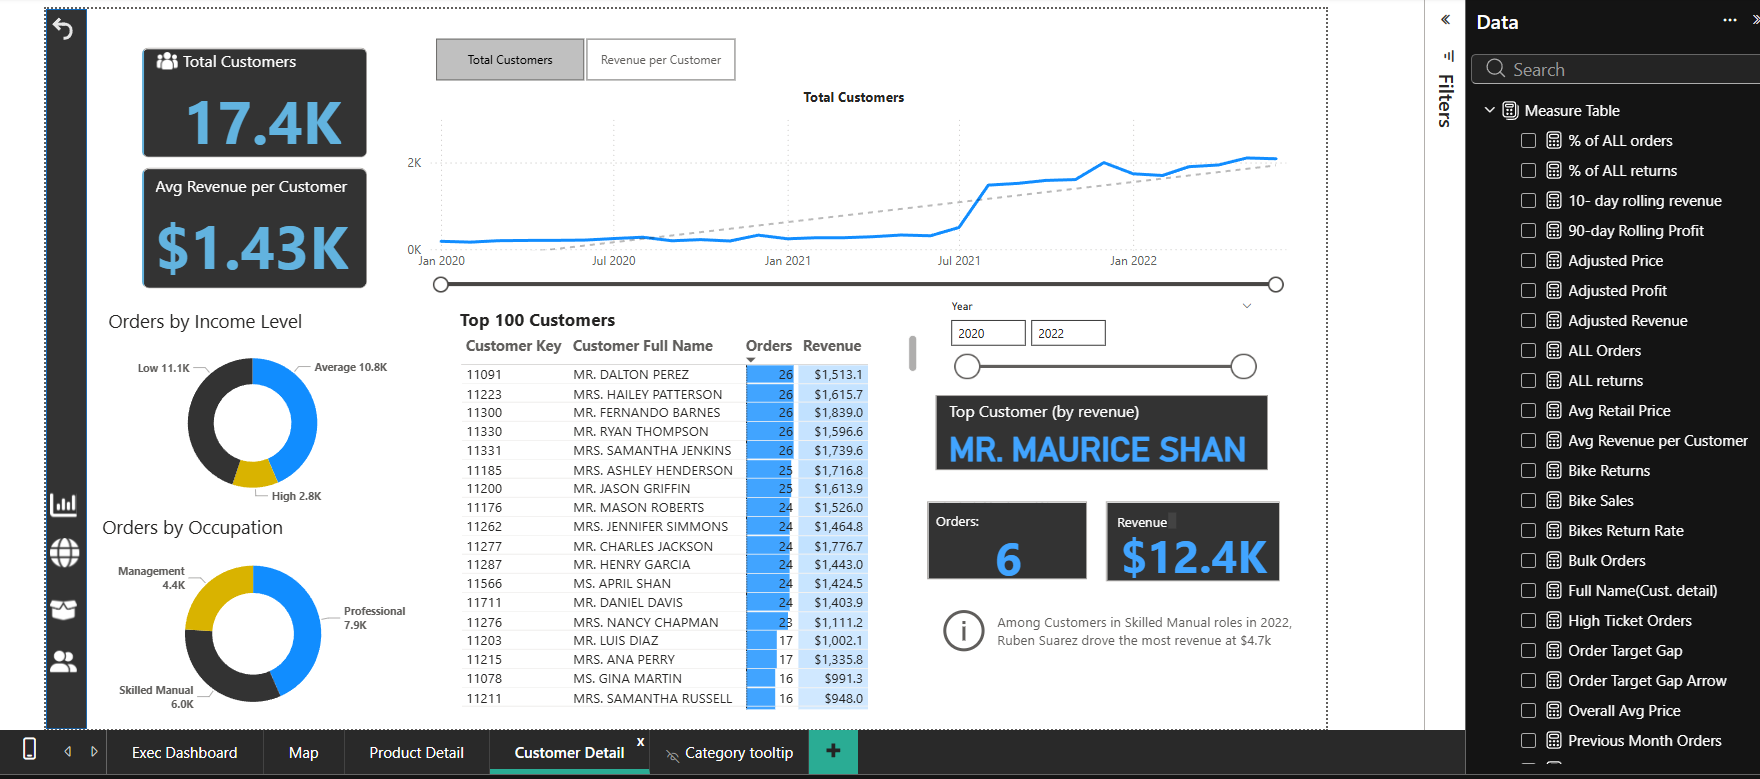

The dashboard page shown, as its layout file describes it:
{"tool":"powerbi","page":{"name":"Customer Detail","canvas":[1280,720],"ordinal":3},"visuals":[{"type":"shape","box":[0,0,41,720.3],"z":0},{"type":"cardVisual","fields":{"Data":["Measure Table.Total Customers"]},"box":[90.8,33.6,235.1,120.7],"z":1000},{"type":"actionButton","box":[0,478.9,41.1,34.8],"z":1000,"group":"g1"},{"type":"cardVisual","fields":{"Data":["Measure Table.Avg Revenue per Customer"]},"box":[90.8,154.3,235.1,131.9],"z":2000},{"type":"actionButton","box":[0,524.9,41.1,37.3],"z":2000,"group":"g1"},{"type":"lineChart","fields":{"Category":["Calendar Lookup.Date Hierarchy.Start of Year","Calendar Lookup.Date Hierarchy.Start of Month","Calendar Lookup.Date Hierarchy.Start of Week","Calendar Lookup.Date Hierarchy.Date"],"Y":["Measure Table.Total Customers"]},"box":[355.8,78.4,903.1,207.7],"z":3000},{"type":"actionButton","box":[0,583.4,41.1,34.8],"z":3000,"group":"g1"},{"type":"donutChart","title":" Orders by Income Level","fields":{"Series":["Customer Lookup.Income Level"],"Y":["Measure Table.Total Orders"]},"box":[57.6,298.5,298.5,206.1],"z":4000},{"type":"actionButton","box":[0,635.6,41.1,34.8],"z":4000,"group":"g1"},{"type":"donutChart","title":" Orders by Occupation","fields":{"Category":["Customer Lookup.Occupation"],"Y":["Measure Table.Total Orders"]},"box":[51.5,504.5,312.1,215.2],"z":5000},{"type":"tableEx","title":"Top 100 Customers","fields":{"Values":["Customer Lookup.CustomerKey","Customer Lookup.Customer Full Name","Measure Table.Total Orders","Measure Table.Total Revenue"]},"box":[408.3,298.7,467.5,406.9],"z":6000},{"type":"cardVisual","fields":{"Data":["Measure Table.Full Name(Cust. detail)"]},"box":[884.5,380.7,342.1,85.8],"z":7000},{"type":"cardVisual","fields":{"Data":["Measure Table.Total Orders(Cust Detail)"]},"box":[875.8,487.7,170.2,88],"z":8000},{"type":"cardVisual","fields":{"Data":["Measure Table.Total Rev(Cust Detail)"]},"box":[1054.7,487.7,184.7,90.9],"z":9000},{"type":"textbox","box":[884.4,497.8,57.7,28.9],"z":10000},{"type":"textbox","box":[1066.2,499.2,69.3,26],"z":11000},{"type":"slicer","fields":{"Values":["Calendar Lookup.Year"]},"box":[891.9,286.1,325.9,94.5],"z":12000},{"type":"actionButton","box":[891.6,594.4,366.5,53.4],"z":13000},{"type":"actionButton","box":[1.2,0,31.1,39.8],"z":14000},{"type":"group","id":"g1","title":"Navigation buttons","box":[0,478.9,41.1,191.6],"z":15000},{"type":"slicer","fields":{"Values":["Customer Metric Selection.Customer Metric Selection"]},"box":[363.2,22.4,349.6,56],"z":16000}]}

Visuals, with their boxes on the page's 1280x720 design canvas (x1, y1, x2, y2). These are canvas units, not pixel positions in the 1760x779 screenshot, which may show the page scaled, cropped or inside an application window:
shape: BBox(0, 0, 41, 720)
cardVisual - Measure Table.Total Customers: BBox(91, 34, 326, 154)
actionButton: BBox(0, 479, 41, 514)
cardVisual - Measure Table.Avg Revenue per Customer: BBox(91, 154, 326, 286)
actionButton: BBox(0, 525, 41, 562)
lineChart - Calendar Lookup.Date Hierarchy.Start of Year x Calendar Lookup.Date Hierarchy.Start of Month: BBox(356, 78, 1259, 286)
actionButton: BBox(0, 583, 41, 618)
" Orders by Income Level" donutChart: BBox(58, 298, 356, 505)
actionButton: BBox(0, 636, 41, 670)
" Orders by Occupation" donutChart: BBox(52, 504, 364, 720)
"Top 100 Customers" tableEx: BBox(408, 299, 876, 706)
cardVisual - Measure Table.Full Name(Cust. detail): BBox(884, 381, 1227, 466)
cardVisual - Measure Table.Total Orders(Cust Detail): BBox(876, 488, 1046, 576)
cardVisual - Measure Table.Total Rev(Cust Detail): BBox(1055, 488, 1239, 579)
textbox: BBox(884, 498, 942, 527)
textbox: BBox(1066, 499, 1136, 525)
slicer - Calendar Lookup.Year: BBox(892, 286, 1218, 381)
actionButton: BBox(892, 594, 1258, 648)
actionButton: BBox(1, 0, 32, 40)
"Navigation buttons" group: BBox(0, 479, 41, 670)
slicer - Customer Metric Selection.Customer Metric Selection: BBox(363, 22, 713, 78)
